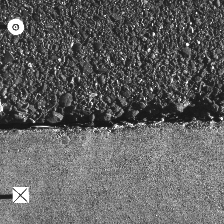circle: (7, 18, 24, 35)
crack: (1, 109, 223, 133)
square: (12, 187, 29, 203)
